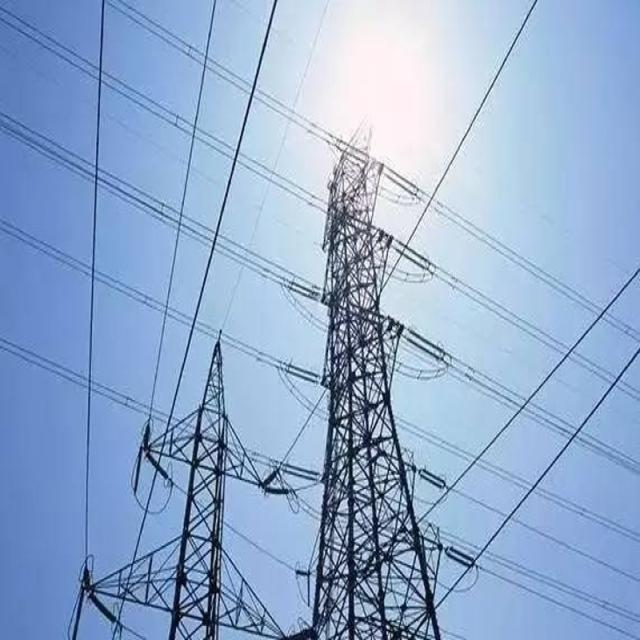non-critical vegetation: (302, 120, 438, 618), (130, 363, 274, 632)
